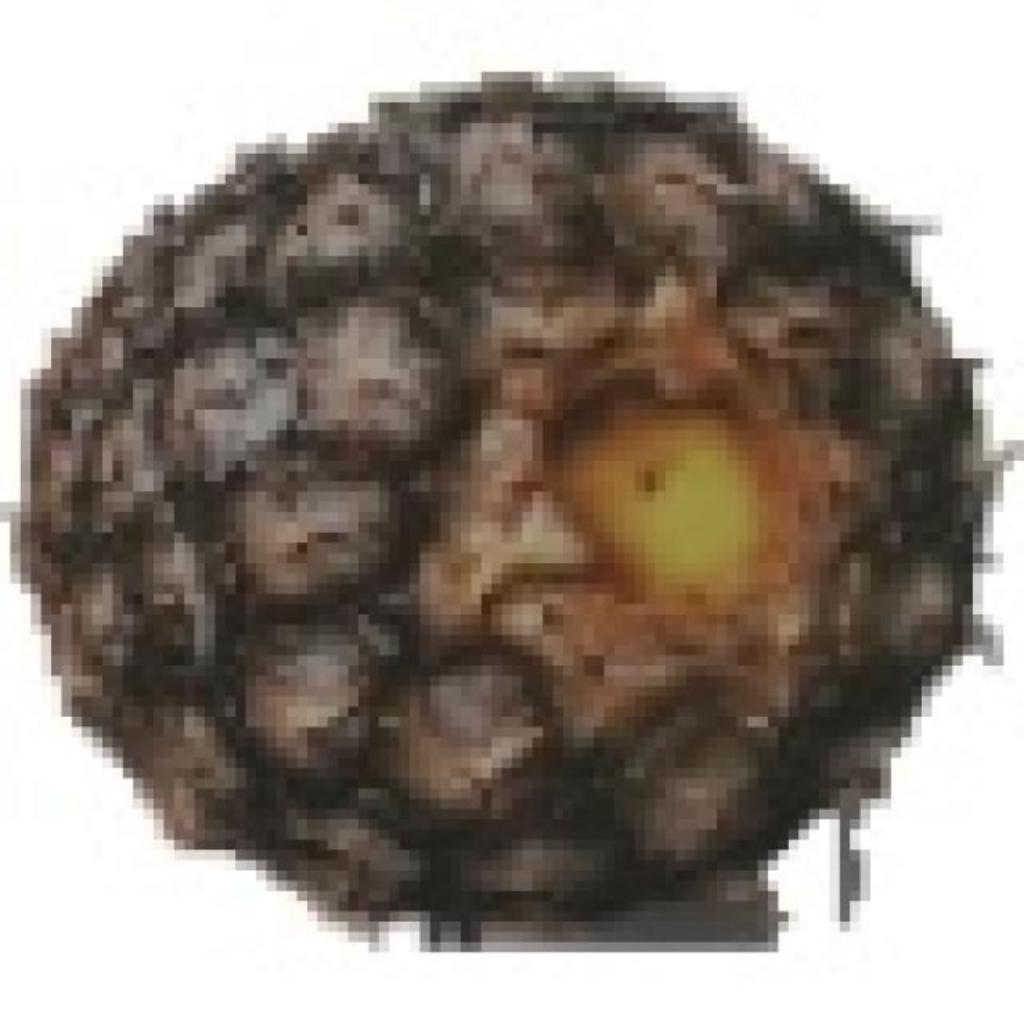pineapple: (10, 61, 963, 922)
